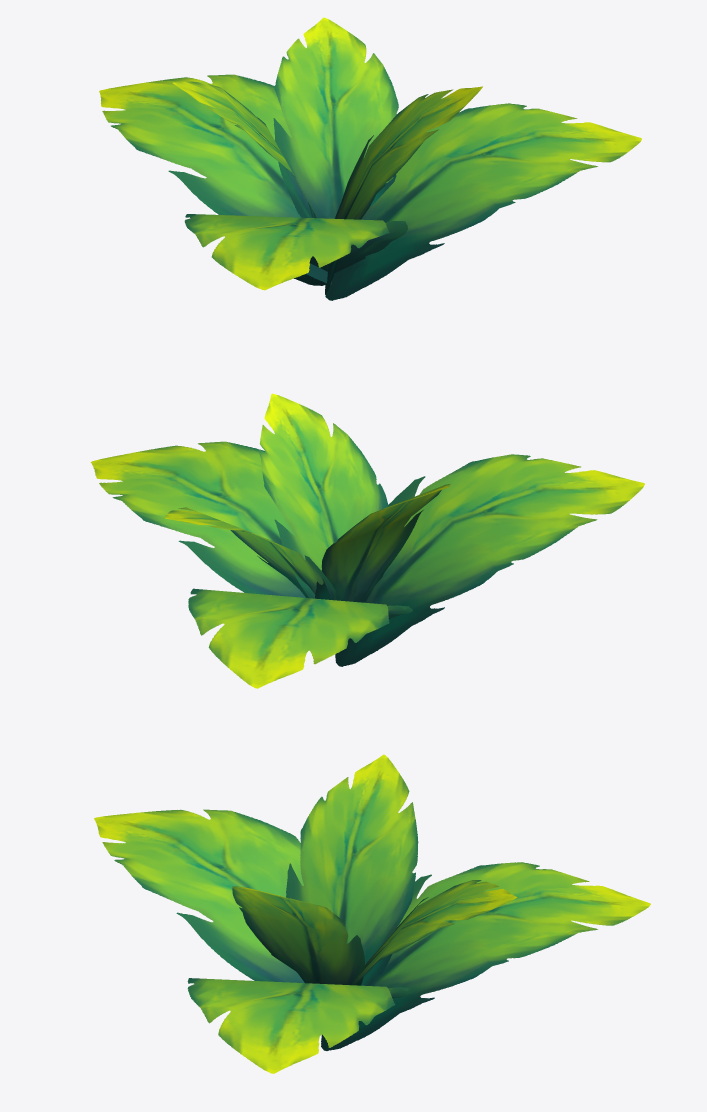
The model's file is Pastito_02.fbx.
The picture shows the model from 3 angles, top to bottom: view 1: azimuth 30°, elevation 25°; view 2: azimuth 150°, elevation 25°; view 3: azimuth 270°, elevation 25°; orthographic projection.
Parts seen in each view (by area): view 1: Pastito_02; view 2: Pastito_02; view 3: Pastito_02.
Boxes of the visible parts, x1=… form: Pastito_02: x1=99, y1=17, x2=641, y2=300; Pastito_02: x1=90, y1=393, x2=644, y2=688; Pastito_02: x1=94, y1=754, x2=650, y2=1073.
Size of the model in its own units: 204 by 79.04 by 212.
